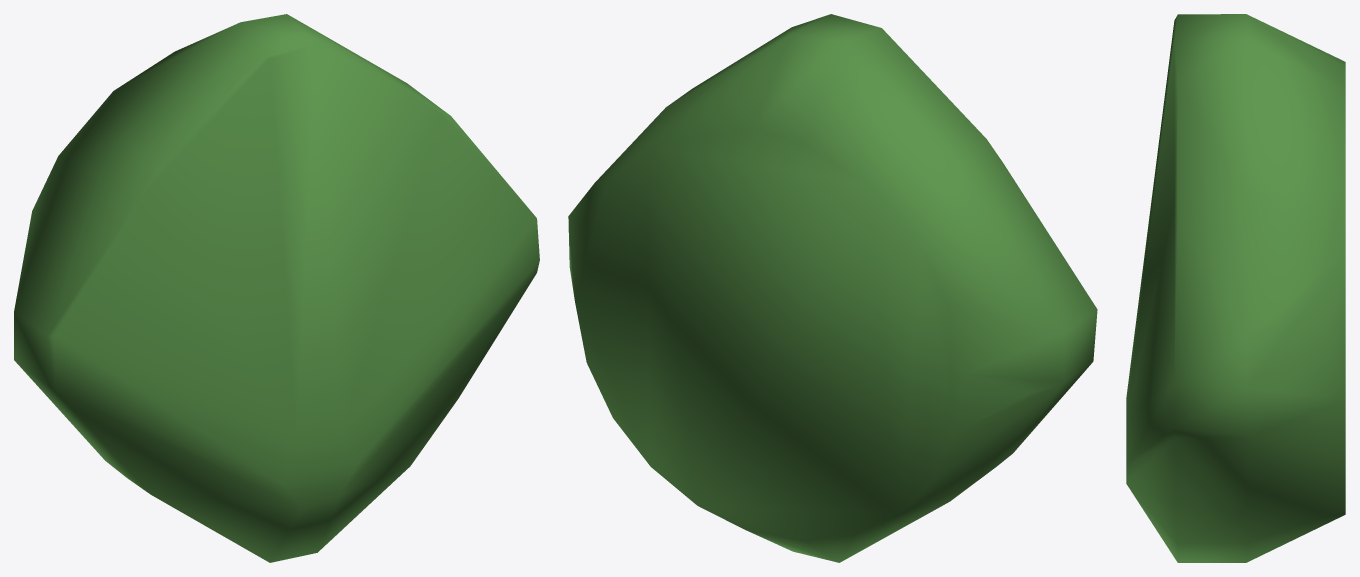
3 renders of one model, left to right at view 1: azimuth 30°, elevation 25°; view 2: azimuth 150°, elevation 25°; view 3: azimuth 270°, elevation 25°, orthographic. The views are drawn at different scales.
Bounding box in the file's own units: 0.0634 × 0.0634 × 0.0239.
